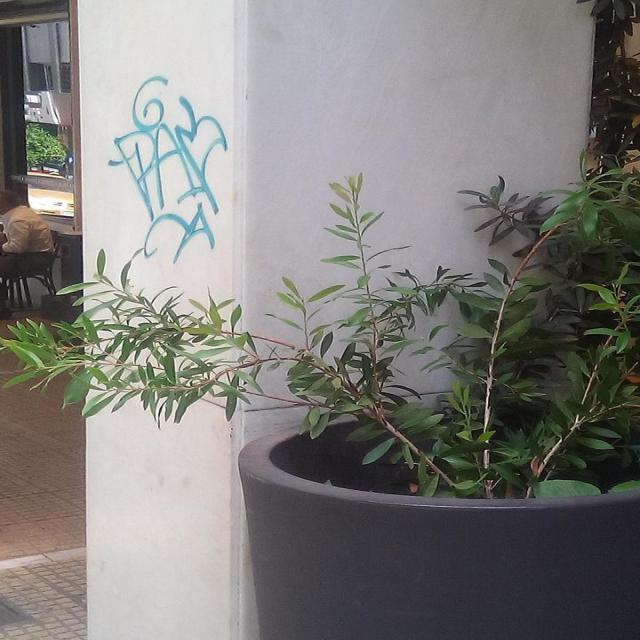nonspitting: (110, 75, 228, 261)
